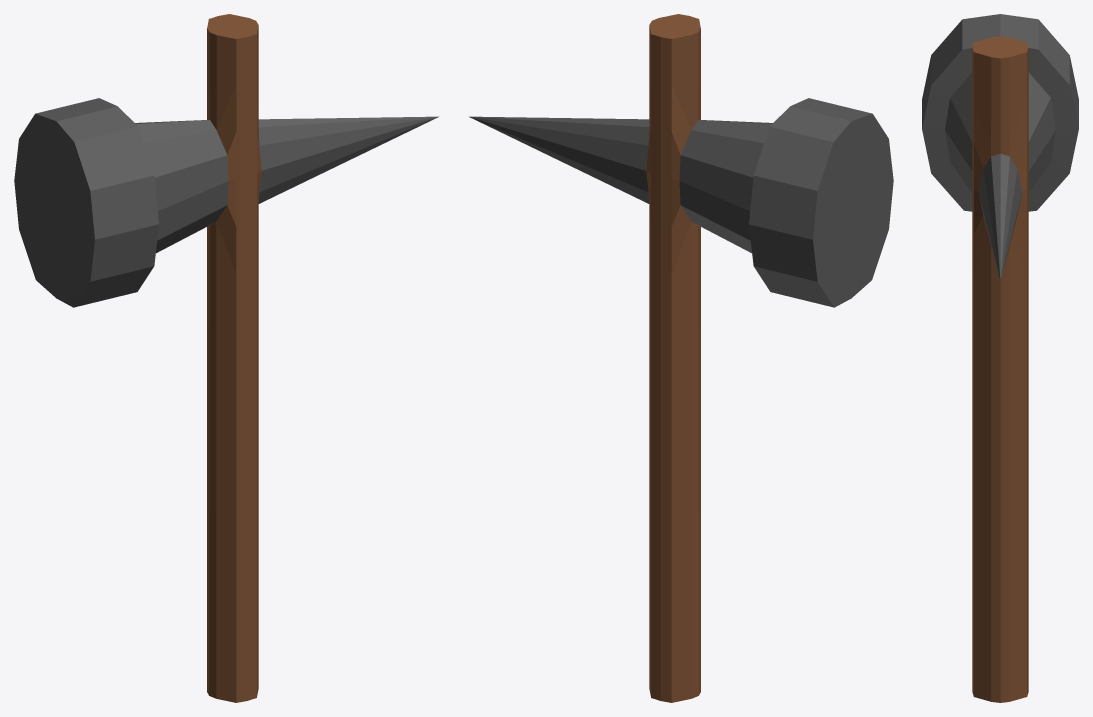
File: warhammer.glb
3 renders of one model, left to right at view 1: azimuth 30°, elevation 25°; view 2: azimuth 150°, elevation 25°; view 3: azimuth 270°, elevation 25°, orthographic. The views are drawn at different scales.
Parts seen in each view (by area): view 1: Warhammer; view 2: Warhammer; view 3: Warhammer.
Boxes of the visible parts, <box> form: Warhammer: <box>14,14,438,702</box>; Warhammer: <box>469,14,893,702</box>; Warhammer: <box>922,14,1078,702</box>.
Size of the model in its own units: 1.58 by 2.6 by 0.5725.
Materials: 2 (2 with a texture image).
